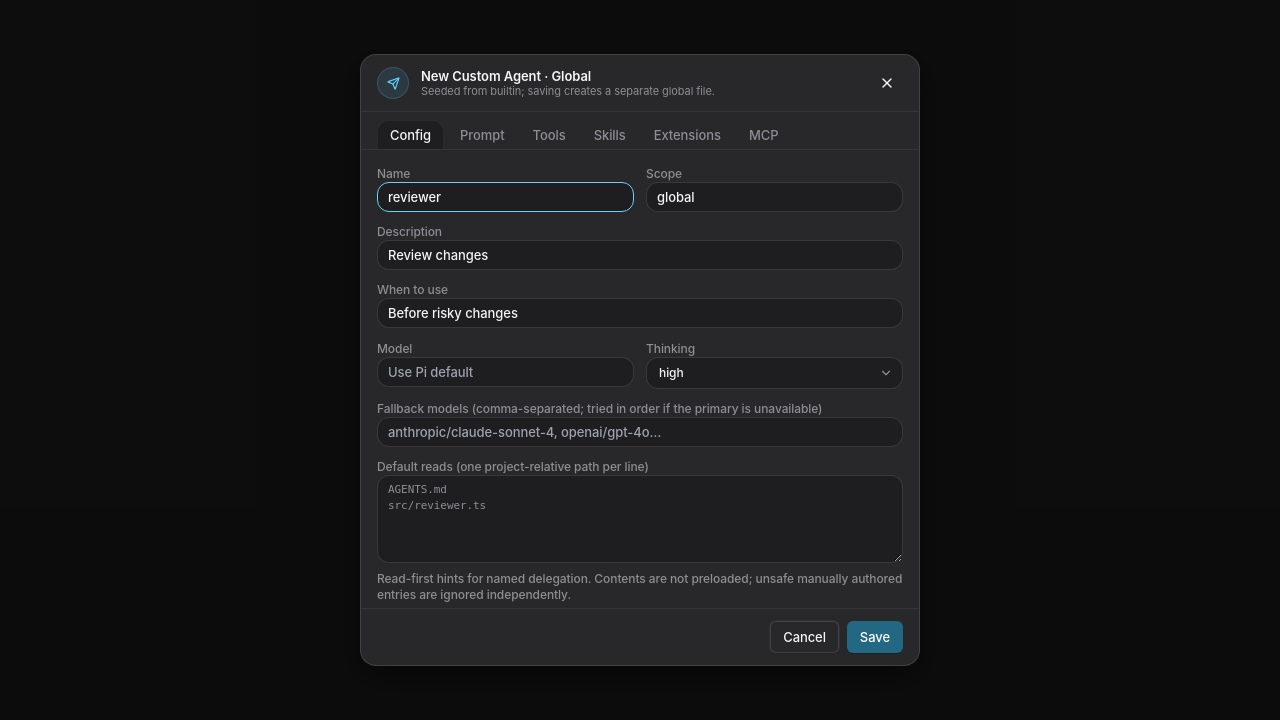
AgentEditSheet builtin replacement create mode › uses the existing writer route with create-only builtin provenance and surfaces collision errors
Click the button with test id "editor-save".
click(875, 637)  # box [847, 621, 903, 653]
(page scrolled)
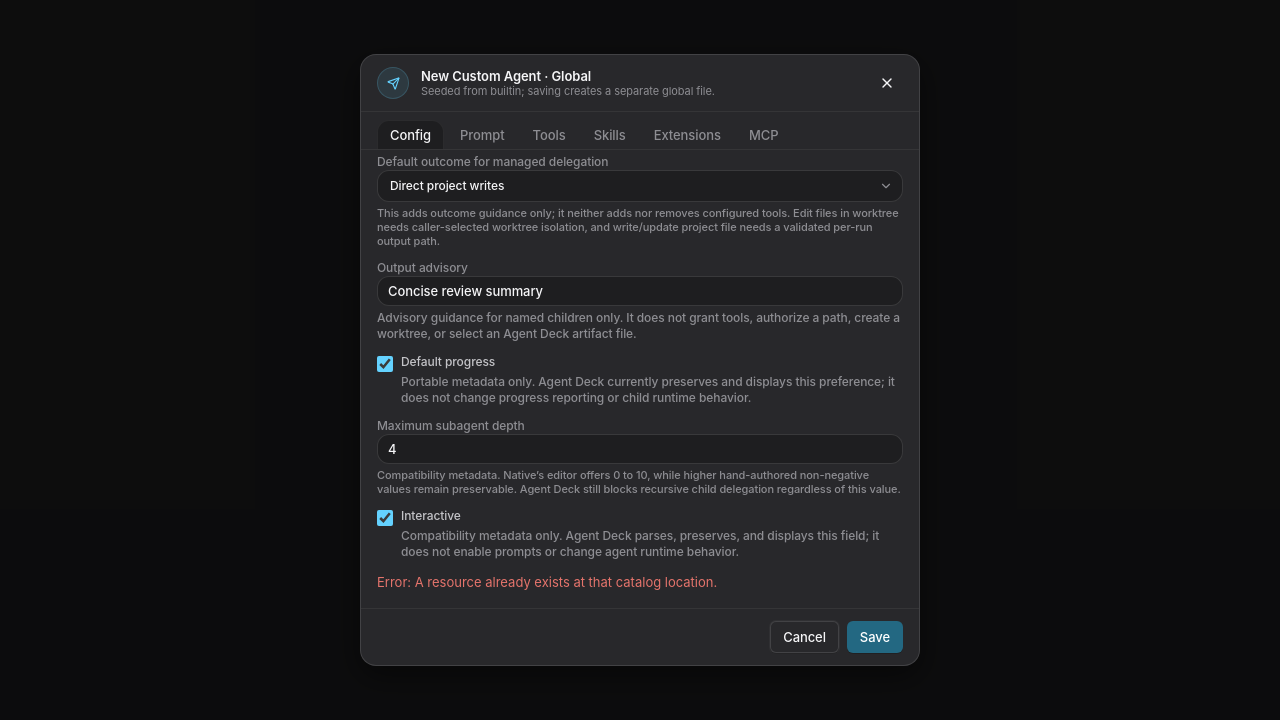
Expected: the text "Error: A resource already exists at that catalog location." is shown, [377, 574, 717, 590]
